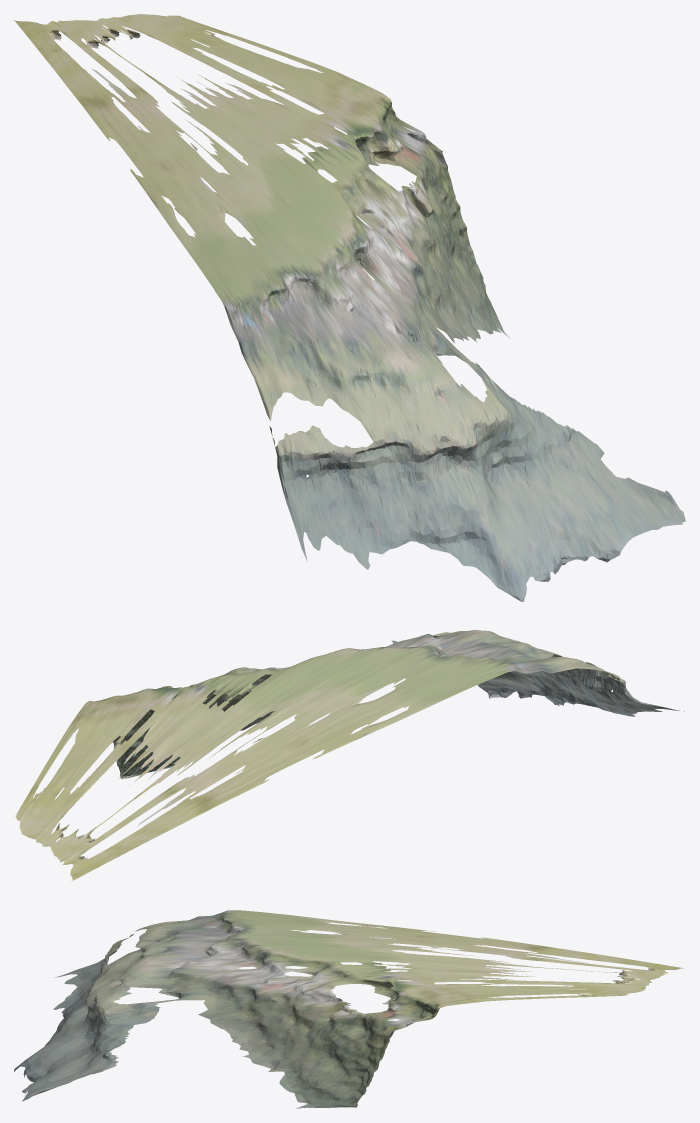
File: render_lod1.glb
The picture shows the model from 3 angles, top to bottom: view 1: azimuth 30°, elevation 25°; view 2: azimuth 150°, elevation 25°; view 3: azimuth 270°, elevation 25°; orthographic projection. The views are drawn at different scales.
Visible parts, largest first — view 1: geometry_0; view 2: geometry_0; view 3: geometry_0.
Part boxes in pixels (x1,y1,x2,y2): geometry_0: (14,14,685,601); geometry_0: (14,630,684,881); geometry_0: (14,910,683,1108).
Size of the model in its own units: 0.5871 by 0.2825 by 1.31.
